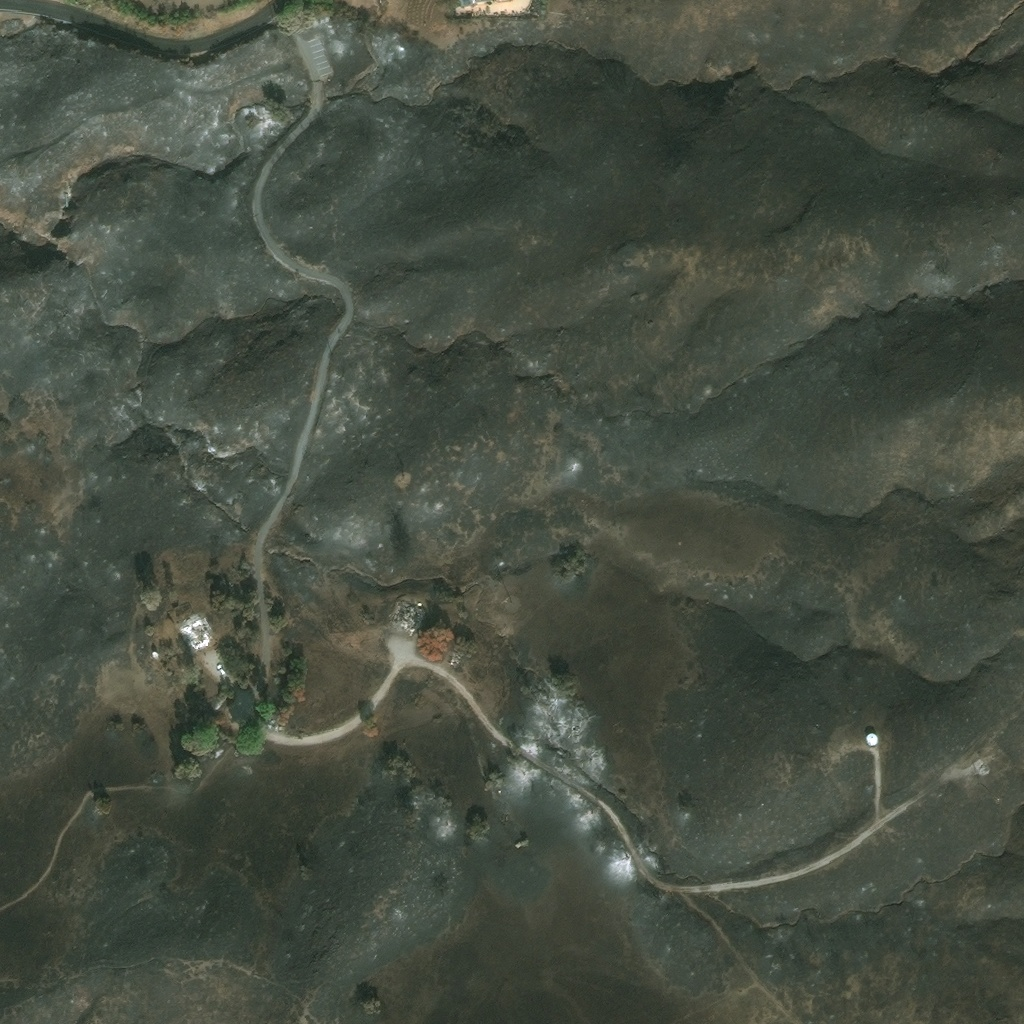0 no-damage: (865, 732, 879, 746)
3 destroyed: (178, 615, 210, 651), (390, 598, 423, 630), (975, 760, 992, 776)
4 un-classified: (458, 0, 487, 6), (151, 651, 158, 659)
